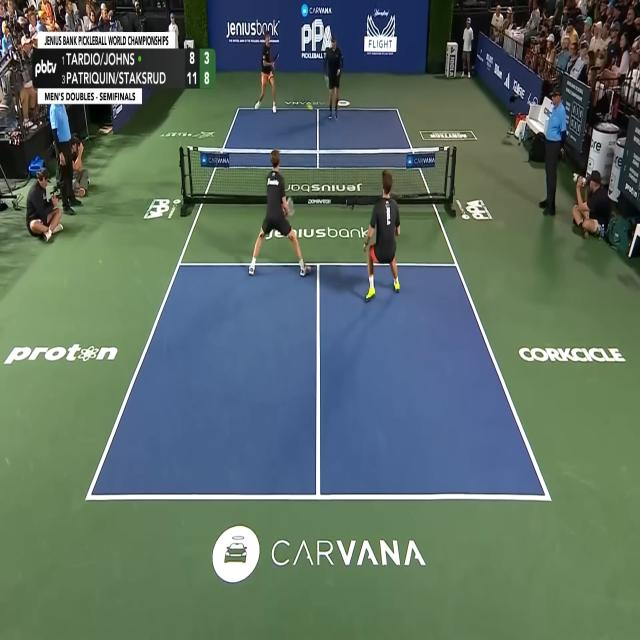ball: (306, 104, 313, 110)
